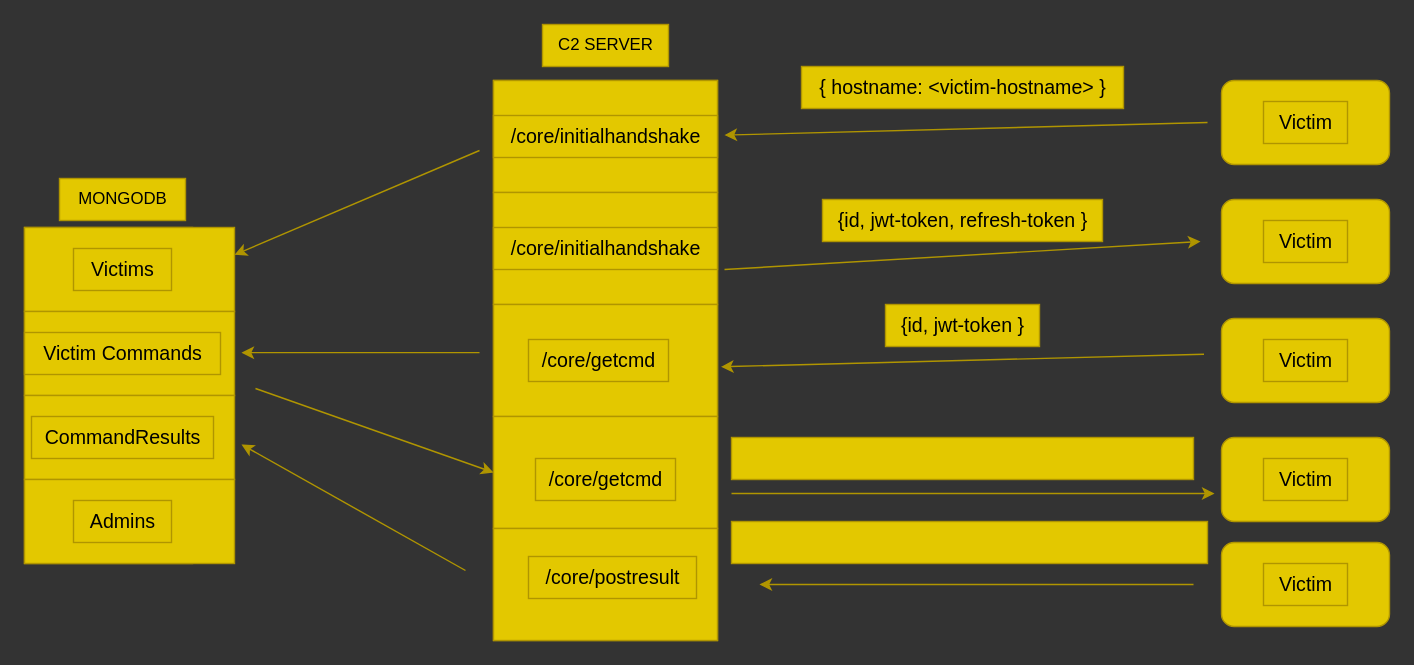
Some shapes in this 1414 by 665 pixel diagram are drawn without their labels. Each missing label, with the centre of its shape:
{command: <encrypted-cmd>, timestamp: <time>}: point (962, 457)
{command: <encrypted-result>, timestamp: <time>}: point (969, 542)
